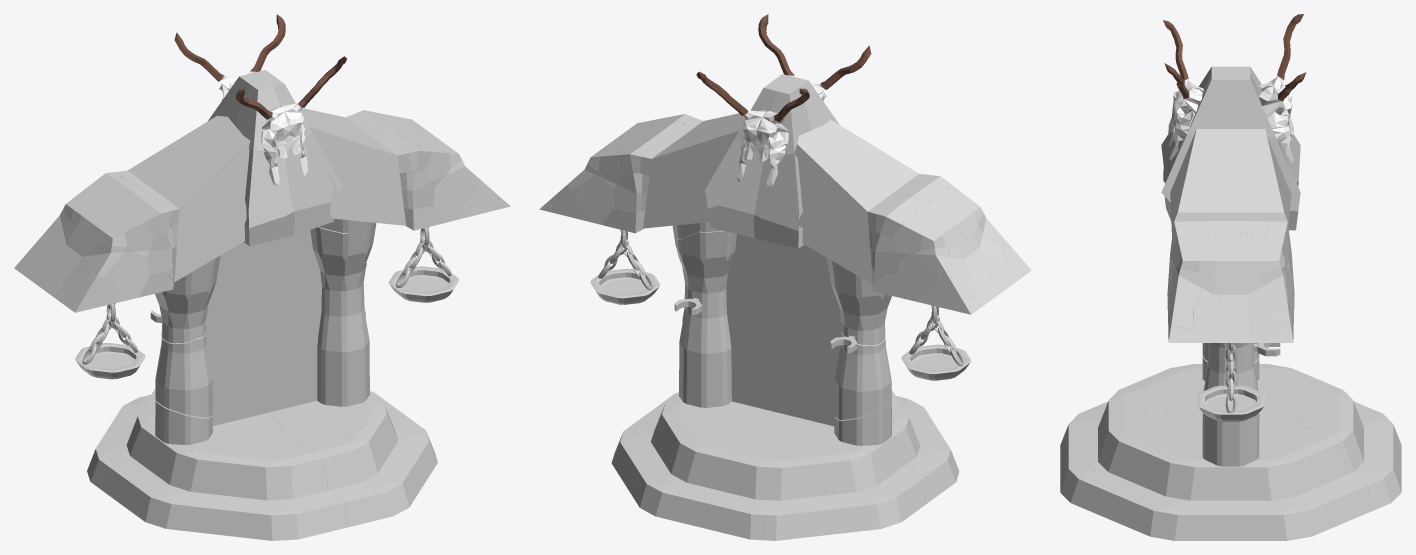
The model's file is portal.fbx.
3 views of the same model, side by side, from view 1: azimuth 30°, elevation 25°; view 2: azimuth 150°, elevation 25°; view 3: azimuth 270°, elevation 25° (orthographic). The views are drawn at different scales.
Visible parts, largest first — view 1: Portal, PortalTop, PortalActivated, Masks, Fire, Chains; view 2: Portal, PortalTop, PortalActivated, Masks, Fire, Chains; view 3: Portal, PortalTop, Masks, Fire, Chains.
Part boxes in pixels (<box>): Portal: <box>87,108,437,540</box>; PortalTop: <box>14,70,510,312</box>; PortalActivated: <box>206,230,321,425</box>; Masks: <box>174,14,346,185</box>; Fire: <box>75,266,459,379</box>; Chains: <box>82,227,451,364</box>; Portal: <box>611,113,959,540</box>; PortalTop: <box>539,74,1031,314</box>; PortalActivated: <box>726,234,841,426</box>; Masks: <box>696,14,871,186</box>; Fire: <box>590,268,970,380</box>; Chains: <box>598,229,963,366</box>; Portal: <box>1060,129,1401,540</box>; PortalTop: <box>1161,66,1300,342</box>; Masks: <box>1163,14,1306,163</box>; Fire: <box>1196,385,1265,421</box>; Chains: <box>1225,343,1236,413</box>.
Bounding box in the file's own units: 1668 × 1544 × 1106.
